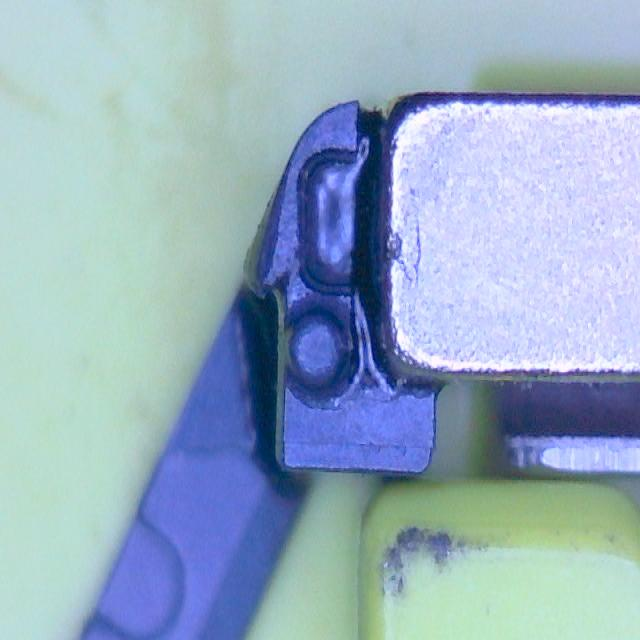over: (294, 146, 370, 294)
